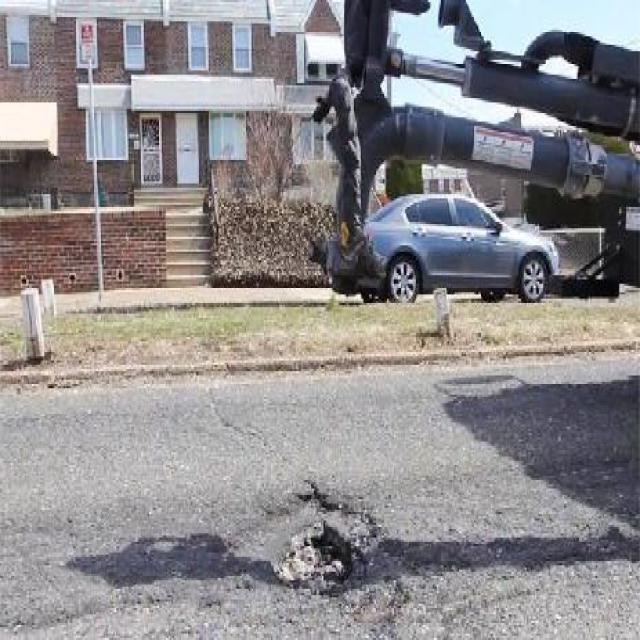pothole: (260, 482, 386, 602)
